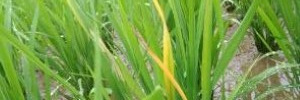RiceTungro: (156, 1, 180, 99)
